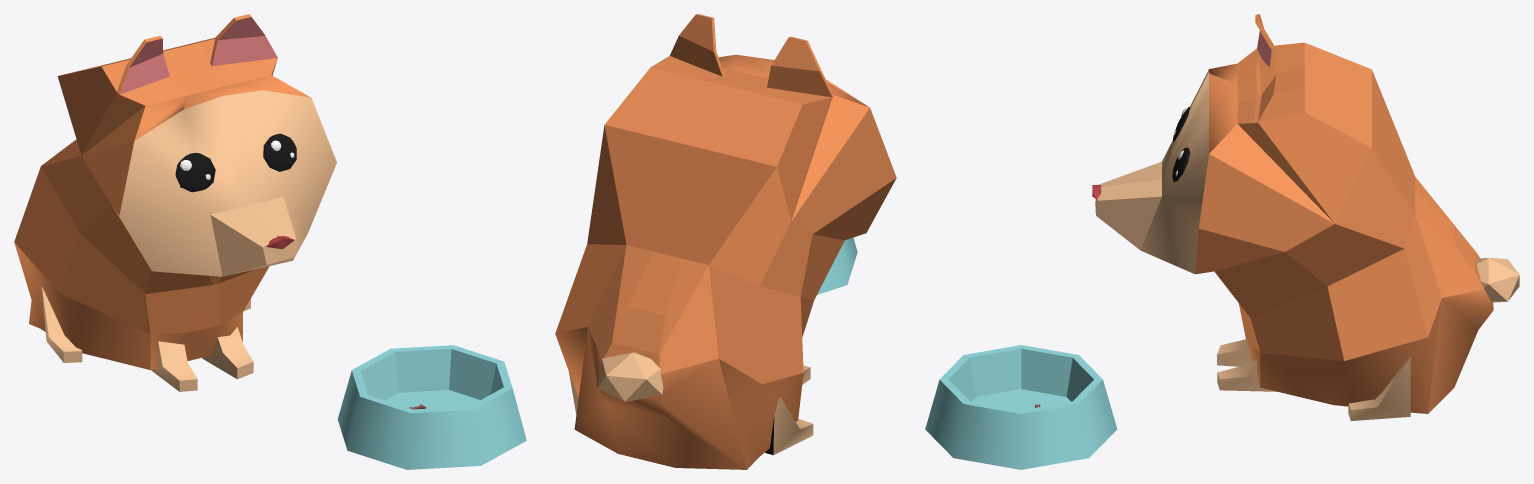
Rendered from cjsAptT6P9b.glb.
The picture shows the model from 3 angles, left to right: view 1: azimuth 30°, elevation 25°; view 2: azimuth 150°, elevation 25°; view 3: azimuth 270°, elevation 25°; orthographic projection. The views are drawn at different scales.
Visible parts, largest first — view 1: Box005, ChamferCyl001; view 2: Box005, ChamferCyl001; view 3: Box005, ChamferCyl001.
Part boxes in pixels (box(x1,y1,x2,y2)): Box005: box(14, 14, 336, 391); ChamferCyl001: box(337, 345, 526, 469); Box005: box(555, 14, 896, 469); ChamferCyl001: box(817, 237, 857, 294); Box005: box(1092, 14, 1519, 420); ChamferCyl001: box(925, 345, 1117, 469).
Bounding box in the file's own units: 0.9385 × 0.9999 × 1.6.
